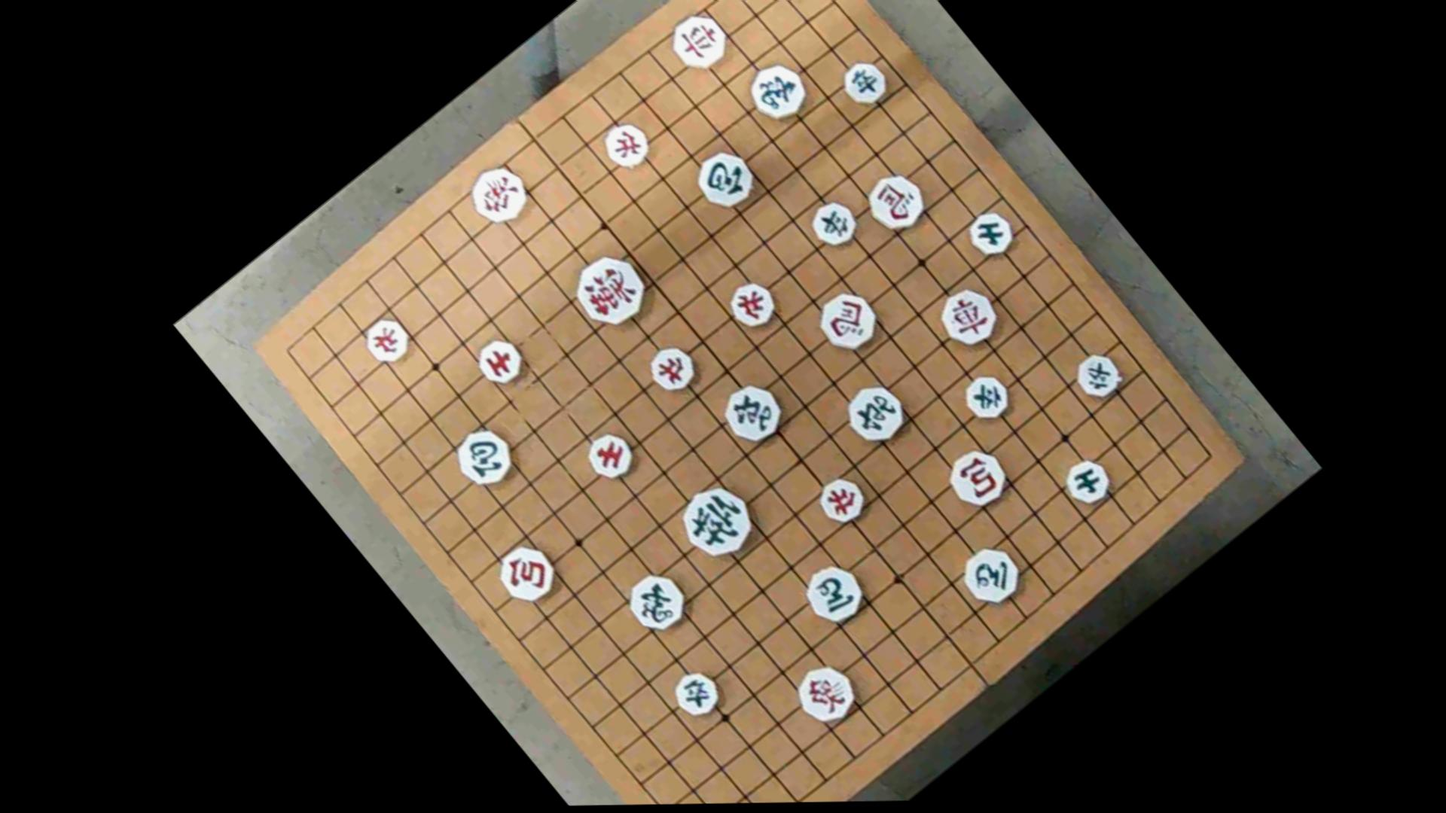cha_green: (834, 374, 914, 453), (715, 373, 793, 451)
cha_red: (929, 279, 1008, 356), (660, 3, 738, 78)
jol_green: (666, 662, 730, 723), (1067, 343, 1129, 403), (956, 367, 1017, 426), (802, 194, 863, 253), (837, 53, 895, 110)
jol_red: (639, 336, 705, 400), (721, 273, 786, 334), (810, 469, 873, 531), (355, 309, 419, 370), (596, 116, 655, 173)
ma_green: (794, 553, 874, 630), (954, 536, 1030, 610)
ma_red: (808, 280, 889, 359), (856, 165, 933, 238)
po_green: (686, 142, 764, 218), (446, 420, 522, 495)
po_red: (940, 440, 1017, 514), (490, 536, 565, 609)
sa_green: (1056, 451, 1118, 512), (961, 205, 1021, 262)
sa_red: (468, 331, 532, 394), (578, 424, 641, 486)
sang_green: (737, 55, 815, 130), (618, 566, 692, 638)
sang_red: (786, 653, 865, 729), (462, 157, 538, 232)
wang_green: (668, 474, 767, 569)
wang_red: (560, 243, 659, 340)
